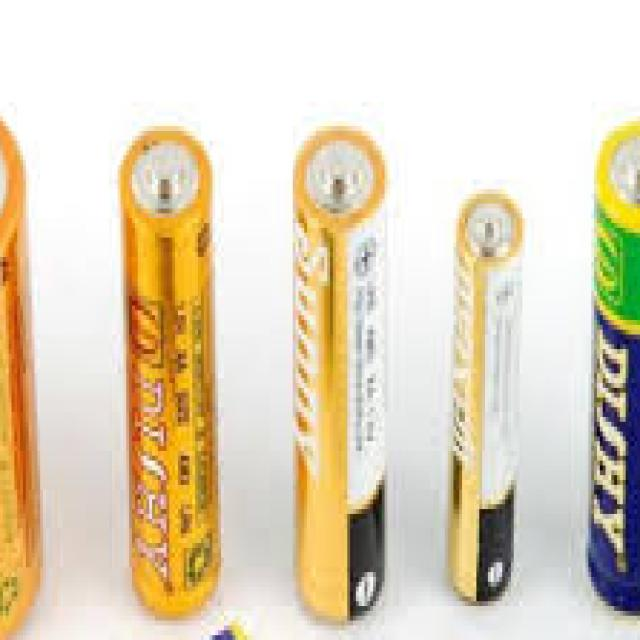organic: (4, 125, 219, 599), (274, 139, 412, 614), (430, 191, 525, 601), (576, 109, 640, 614)
